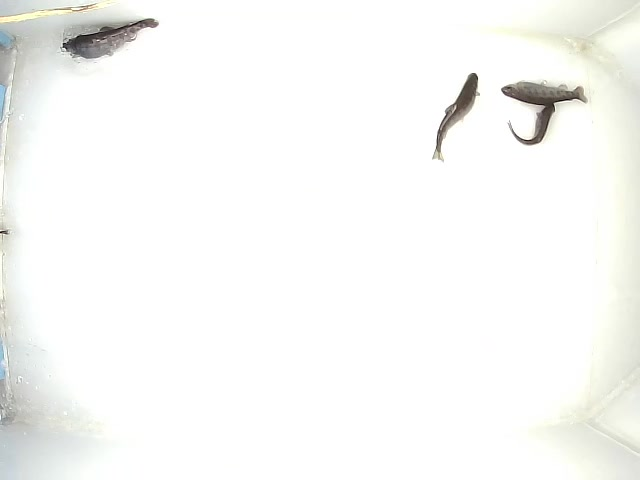fish: (430, 71, 481, 165), (61, 17, 161, 61), (499, 78, 590, 106), (506, 101, 558, 147)
